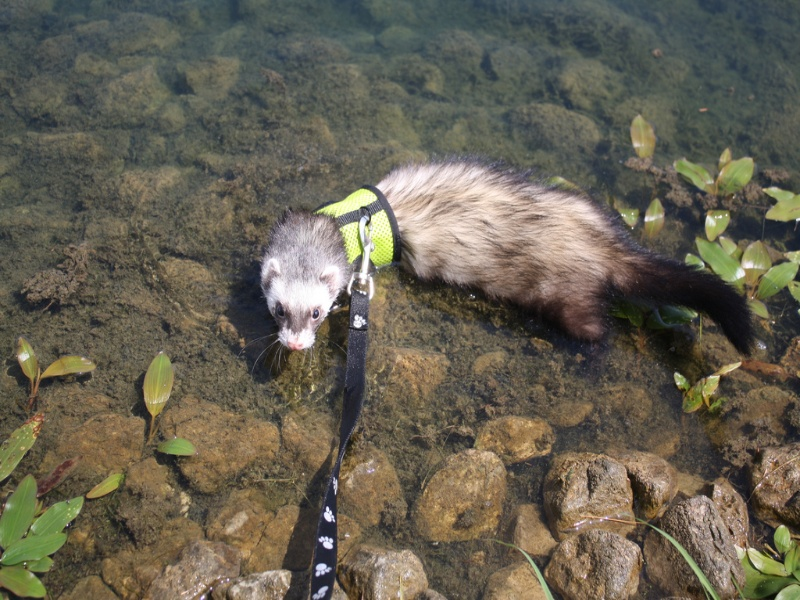minkish: (254, 155, 765, 362)
